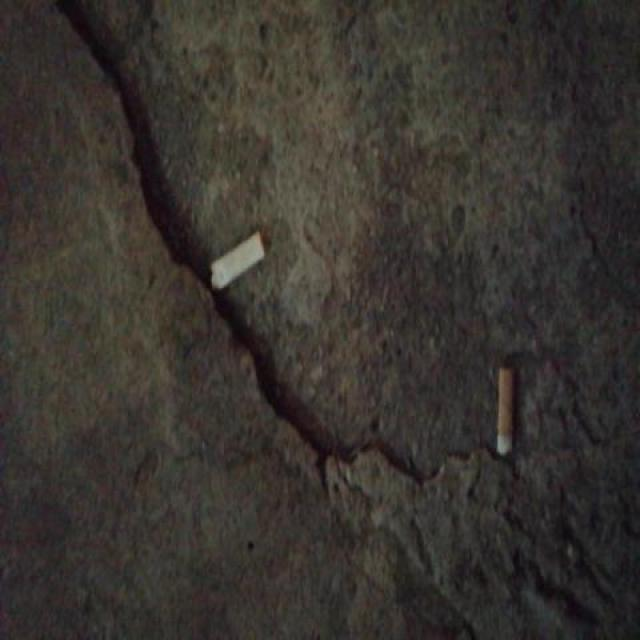non-organic waste: (205, 223, 268, 300), (494, 361, 517, 458)
